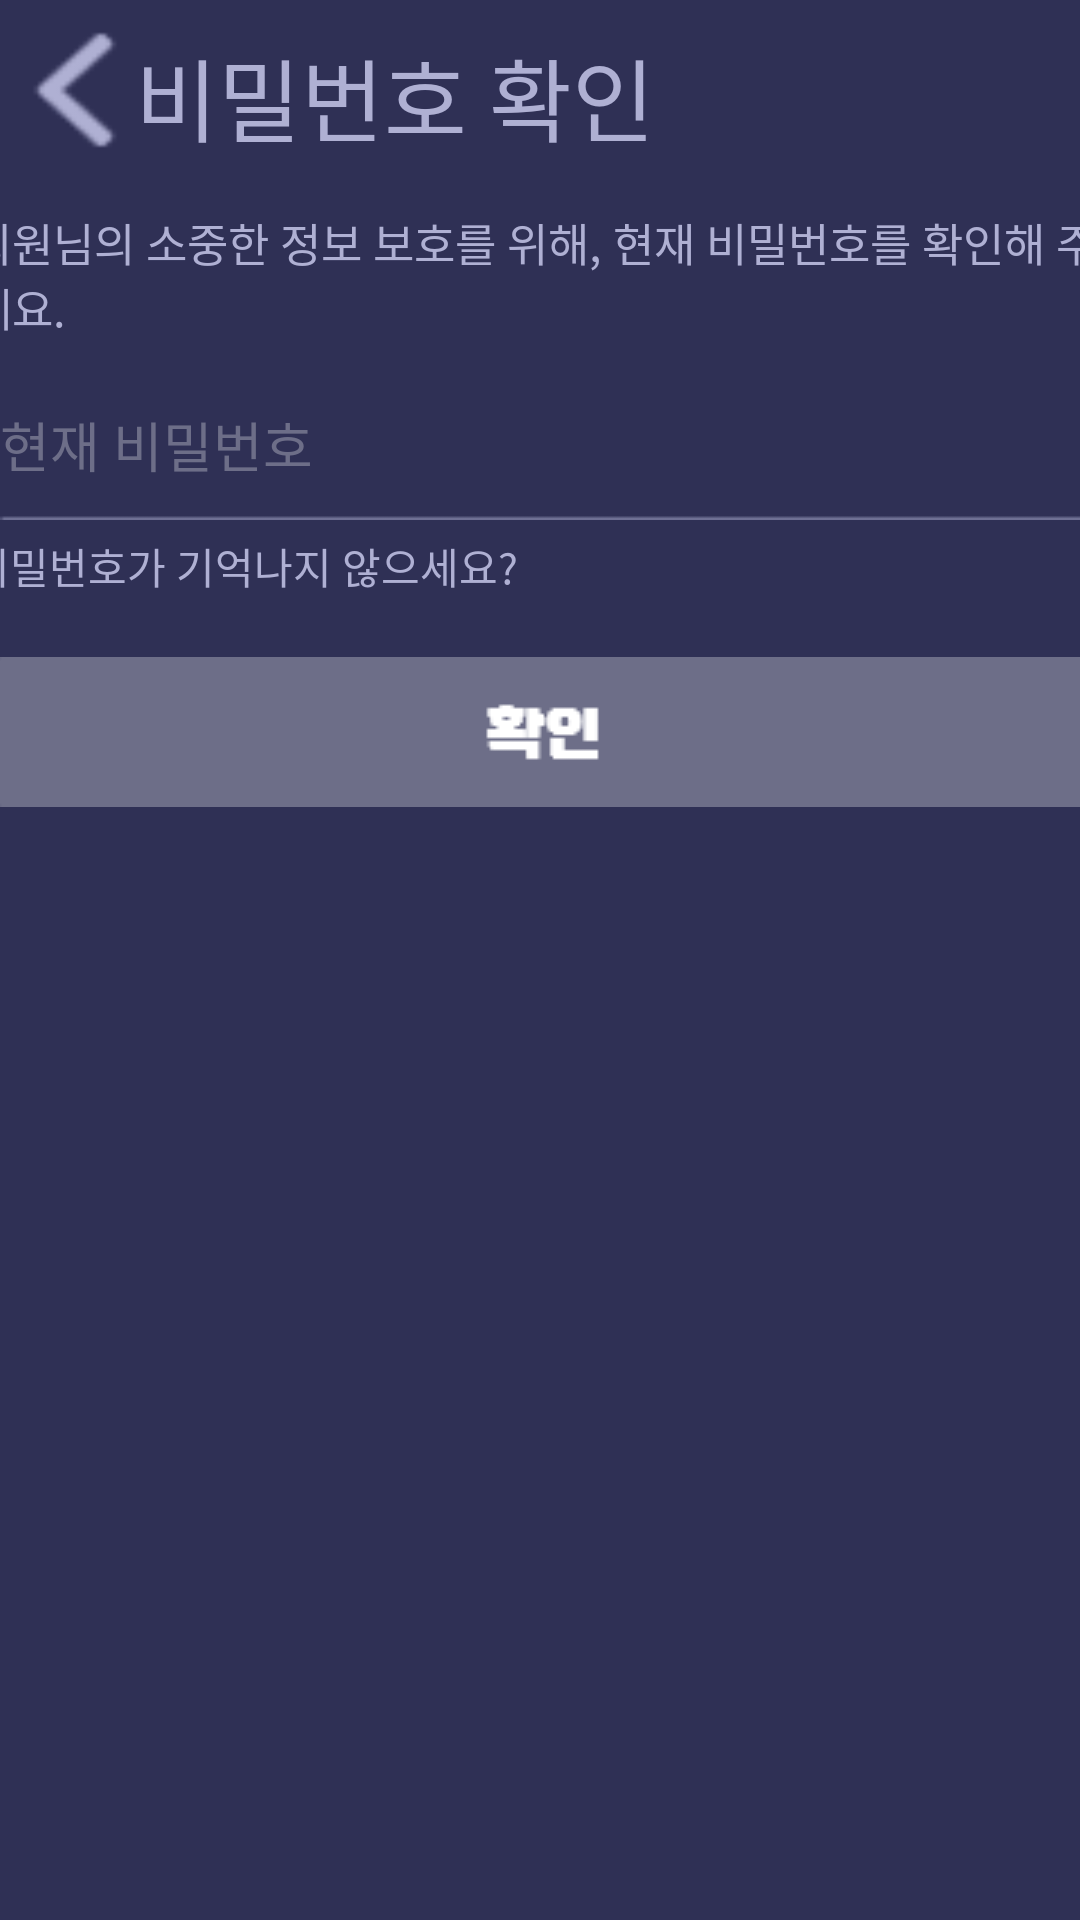

Named icons in this screenshot (1080w x 1920h) and their bounding boxes, (x1, y1, x2, y2):
back: (36, 33, 114, 147)
